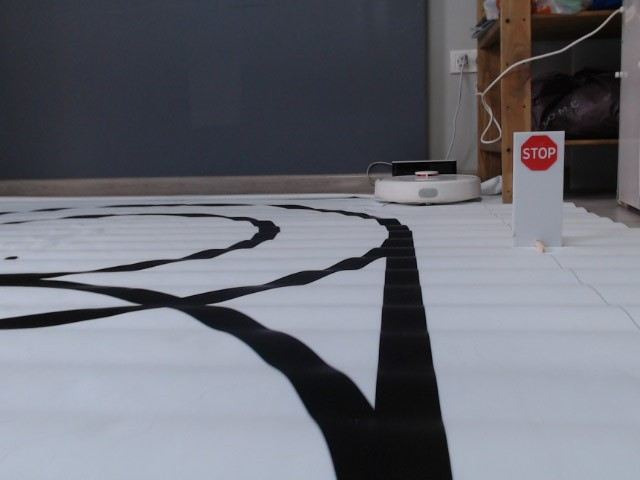Stop: (519, 134, 559, 172)
